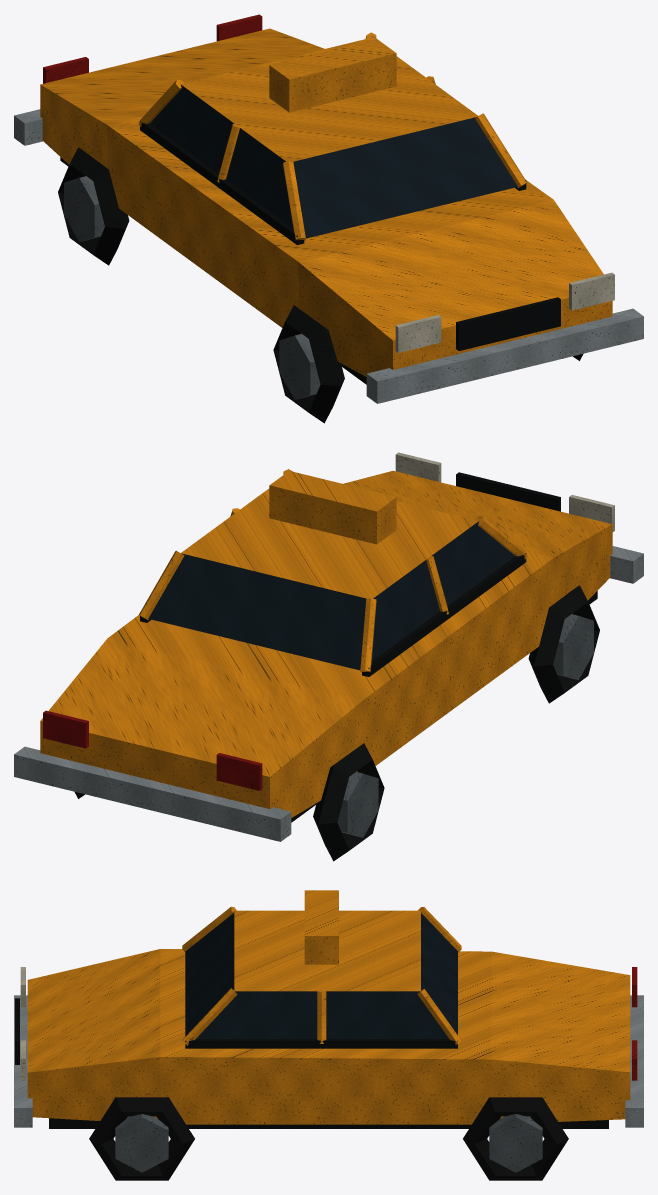
The model's file is PROP-924E1D8366D6_lod2.glb.
3 views of the same model, one above another, from view 1: azimuth 30°, elevation 25°; view 2: azimuth 150°, elevation 25°; view 3: azimuth 270°, elevation 25° (orthographic). The views are drawn at different scales.
Parts seen in each view (by area): view 1: shaped_body_panels.024, sloped_cabin_glazing.024, roof_panel.022, bumper.024, tire.024, taxi_roof_sign.001, rim.024, radiator_grille.024, window_pillars.024, lamp_lenses.048, window_belt.024, lamp_lenses.049; view 2: shaped_body_panels.024, sloped_cabin_glazing.024, roof_panel.022, bumper.024, tire.024, taxi_roof_sign.001, rim.024, window_pillars.024, lamp_lenses.049, window_belt.024, lamp_lenses.048, radiator_grille.024; view 3: shaped_body_panels.024, sloped_cabin_glazing.024, roof_panel.022, tire.024, rim.024, bumper.024, window_belt.024, window_pillars.024, taxi_roof_sign.001, chassis.024, lamp_lenses.048, lamp_lenses.049.
Part boxes in pixels (left/top/right/bottom): shaped_body_panels.024: left=40, top=28, right=612, bottom=376; sloped_cabin_glazing.024: left=150, top=84, right=517, bottom=238; roof_panel.022: left=181, top=37, right=477, bottom=161; bumper.024: left=14, top=109, right=643, bottom=403; tire.024: left=58, top=147, right=583, bottom=423; taxi_roof_sign.001: left=269, top=39, right=396, bottom=112; rim.024: left=64, top=176, right=320, bottom=399; radiator_grille.024: left=456, top=297, right=560, bottom=350; window_pillars.024: left=138, top=32, right=527, bottom=240; lamp_lenses.048: left=395, top=272, right=614, bottom=352; window_belt.024: left=140, top=121, right=526, bottom=245; lamp_lenses.049: left=43, top=14, right=262, bottom=83; shaped_body_panels.024: left=40, top=470, right=612, bottom=817; sloped_cabin_glazing.024: left=148, top=521, right=515, bottom=670; roof_panel.022: left=181, top=488, right=478, bottom=598; bumper.024: left=14, top=546, right=643, bottom=841; tire.024: left=74, top=585, right=599, bottom=861; taxi_roof_sign.001: left=269, top=471, right=396, bottom=544; rim.024: left=337, top=614, right=593, bottom=837; window_pillars.024: left=139, top=469, right=527, bottom=672; lamp_lenses.049: left=43, top=710, right=262, bottom=790; window_belt.024: left=140, top=553, right=526, bottom=676; lamp_lenses.048: left=395, top=452, right=614, bottom=531; radiator_grille.024: left=456, top=472, right=560, bottom=511; shaped_body_panels.024: left=27, top=949, right=630, bottom=1124; sloped_cabin_glazing.024: left=185, top=911, right=457, bottom=1038; roof_panel.022: left=234, top=910, right=420, bottom=991; tire.024: left=89, top=1097, right=568, bottom=1180; rim.024: left=115, top=1114, right=542, bottom=1172; bumper.024: left=14, top=995, right=643, bottom=1127; window_belt.024: left=185, top=1039, right=457, bottom=1048; window_pillars.024: left=182, top=906, right=461, bottom=1045; taxi_roof_sign.001: left=304, top=890, right=338, bottom=964; chassis.024: left=49, top=1118, right=608, bottom=1128; lamp_lenses.048: left=20, top=967, right=25, bottom=1080; lamp_lenses.049: left=632, top=967, right=637, bottom=1080.
Bounding box in the file's own units: 1.98 × 1.64 × 4.39.
Materials: 8 (8 with a texture image).
